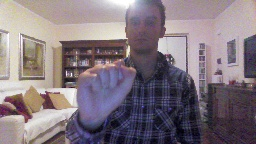Pugno: (75, 57, 137, 132)
